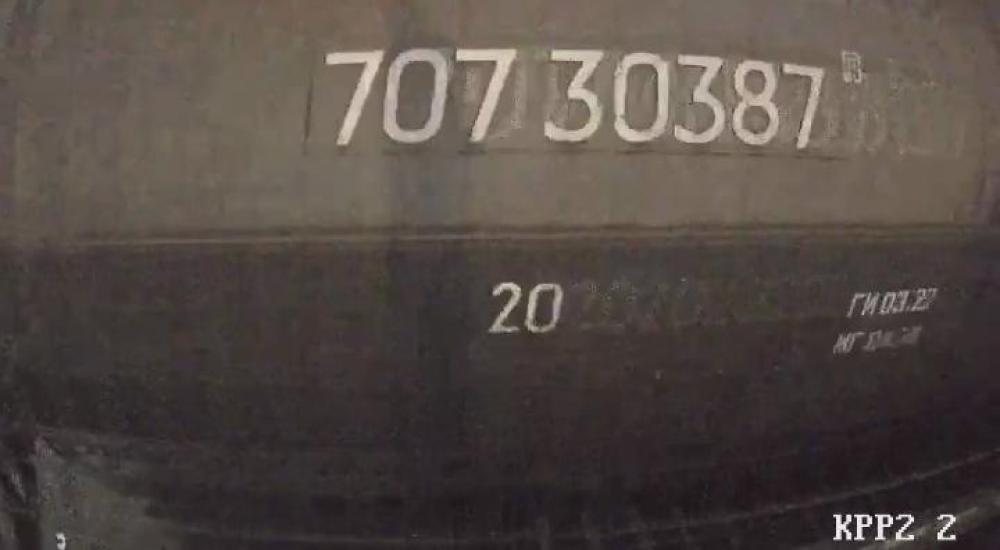Wagon-number: (317, 40, 827, 152)
